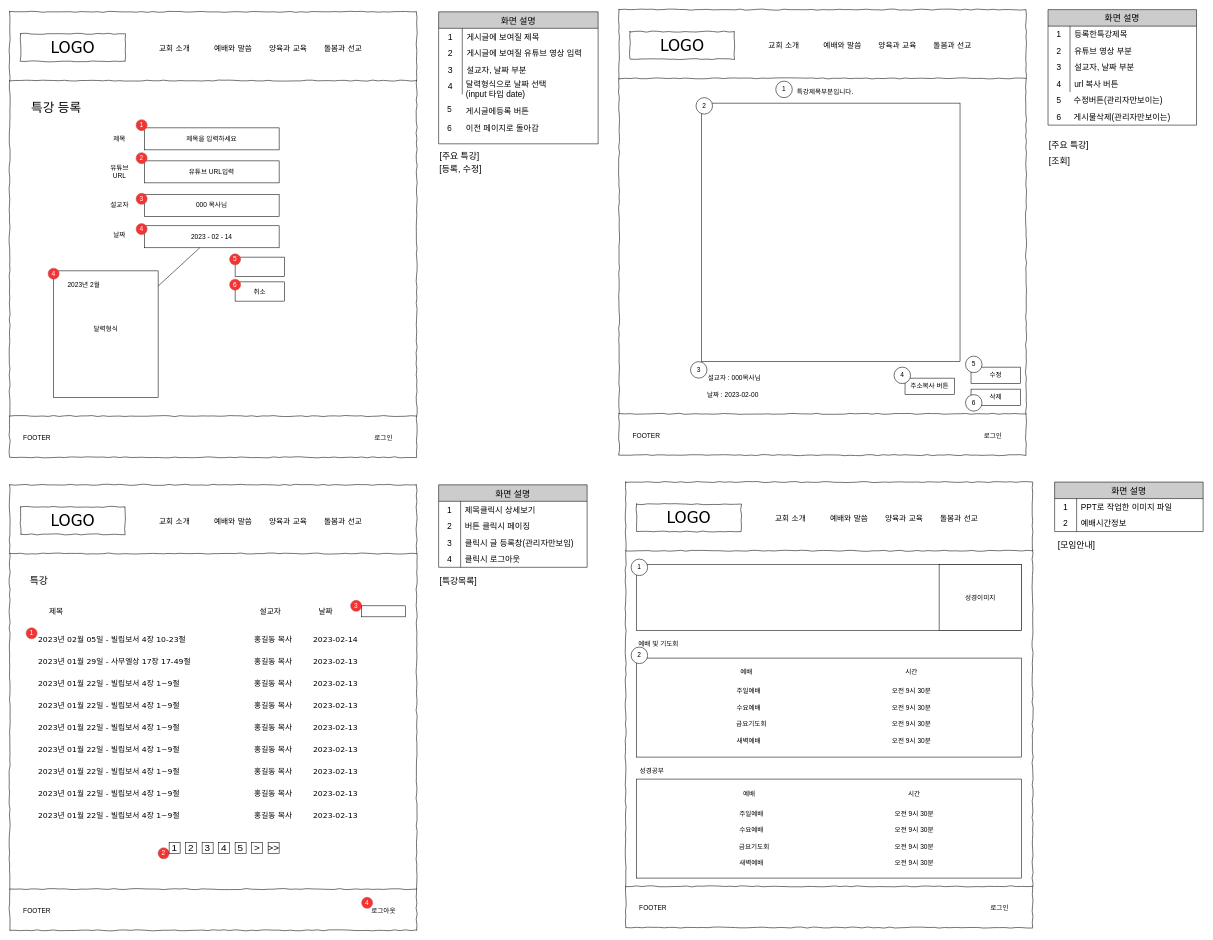
This 1213x940 diagram has some shape labels left out. Here are the shapes that lost their labels. From the top down, the box of each, then its label:
(701, 103, 960, 362): 유튜브 영상부분
(235, 257, 285, 276): 등록
(361, 605, 406, 617): 글 올리기
(636, 564, 1022, 631): 000 교회 예배시간안내 말씀구절
